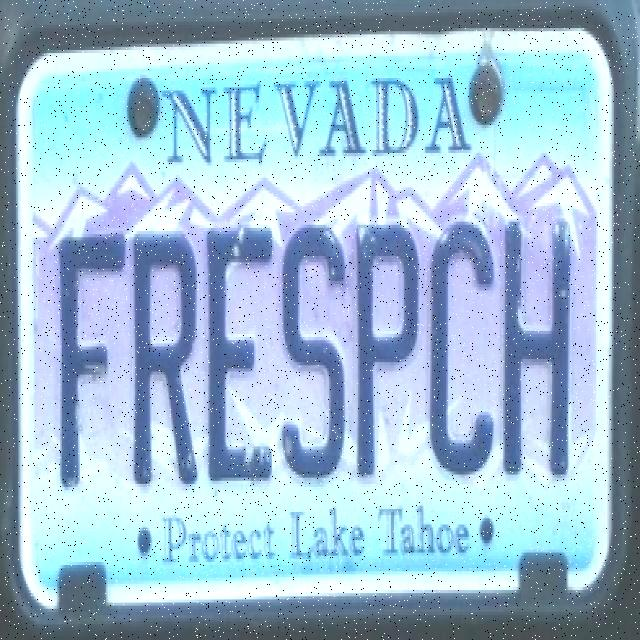licenseplate: (10, 31, 631, 621)
